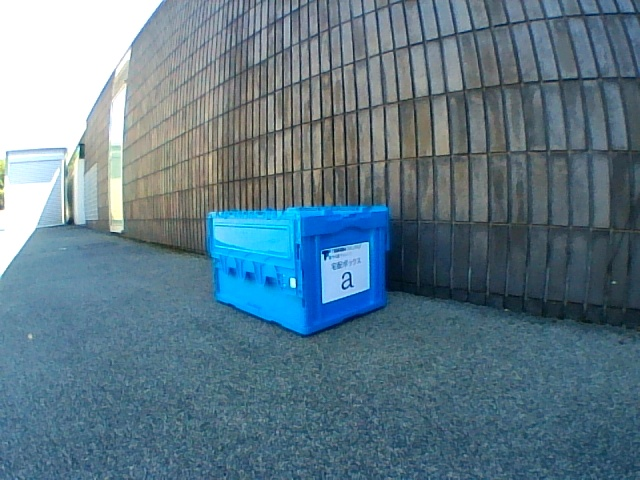blue_box: (207, 206, 388, 333)
tag_a: (331, 253, 361, 291)
